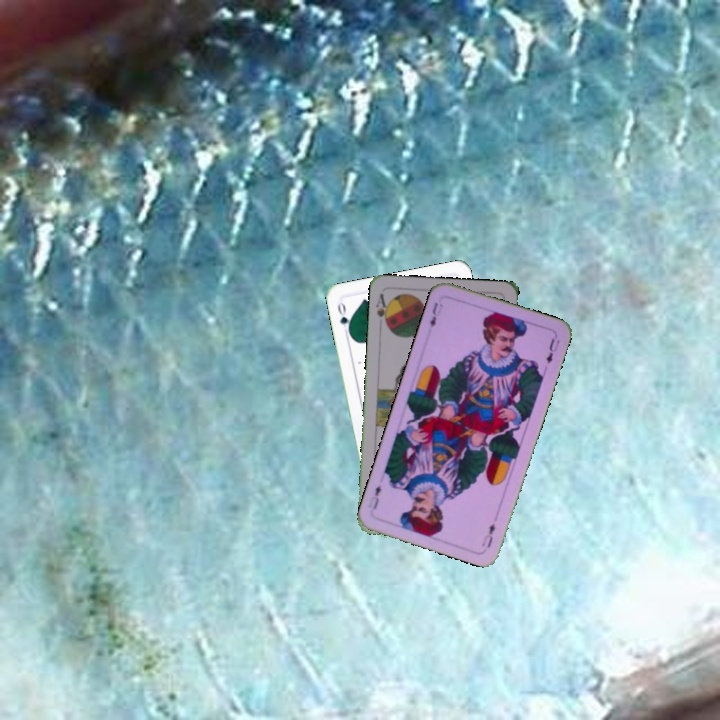EU: (477, 519, 498, 550), (425, 298, 441, 330)
GO: (333, 298, 353, 338)
SA: (372, 289, 392, 330)
